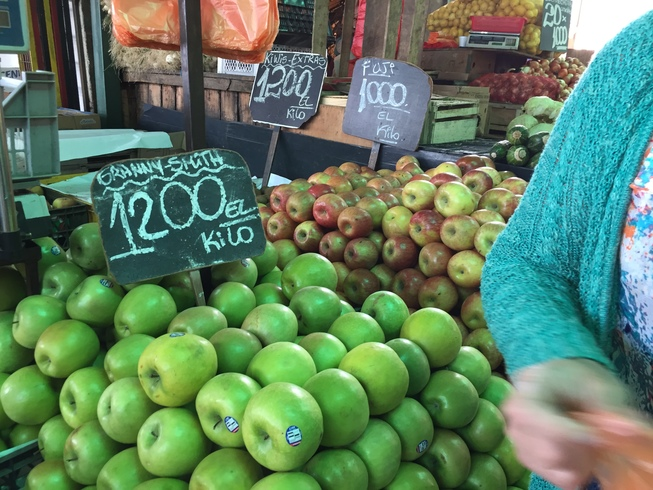precio: (84, 144, 269, 287), (350, 51, 434, 166), (250, 44, 330, 139)
